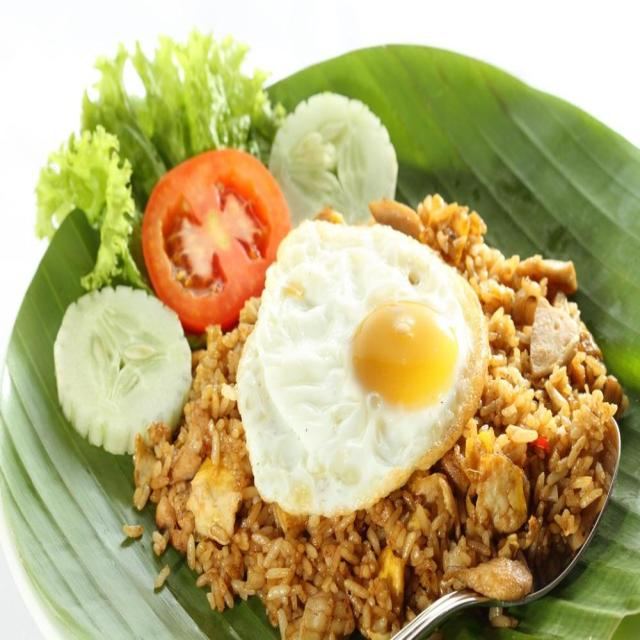Nasi Goreng: (166, 215, 609, 582)
